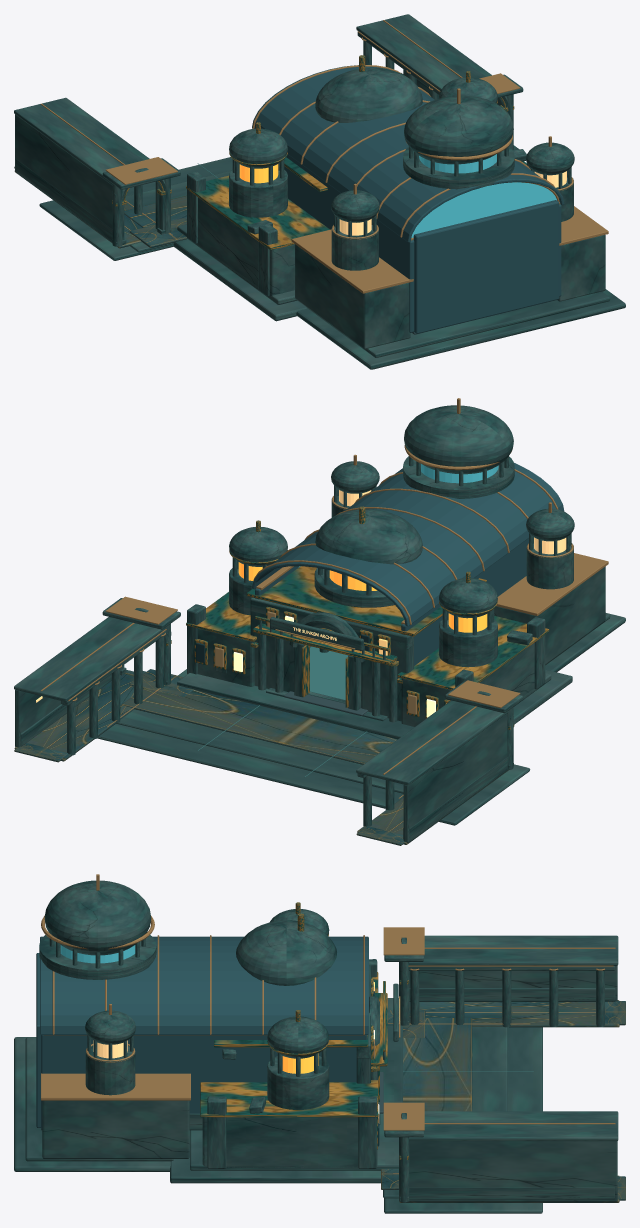
The model's file is atlantis-palace-complex.glb.
3 renders of one model, top to bottom at view 1: azimuth 30°, elevation 25°; view 2: azimuth 150°, elevation 25°; view 3: azimuth 270°, elevation 25°, orthographic. The views are drawn at different scales.
Parts seen in each view (by area): view 1: PalaceCoreRearSanctum, PalaceCoreNaveVault, PalaceCoreRearWing_L, PalaceCoreRearRotundaDome, MuseumWingRoof_L, MuseumWingOuterWall_L, PalaceCentralDome_mesh, MuseumWingRoof_R, PalaceCoreRearLowerPlinth, PalaceRightWing_mesh, PalaceCoreRearFanlightGlass, PalaceCoreSideWall_L (+25 smaller); view 2: PalaceCoreNaveVault, PalaceForecourtUpper, PalaceForecourtLower, PalaceCoreRearRotundaDome, MuseumWingRoof_L, MuseumWingRoof_R, MuseumWingOuterWall_L, PalaceForecourtMiddle, PalaceCentralDome_mesh, PalaceCoreRearWing_L, PalaceMainCornice_mesh, PalaceUpperPlinth_mesh (+36 smaller); view 3: PalaceCoreNaveVault, MuseumWingOuterWall_R, PalaceCoreSideWall_R, PalaceCoreRearWing_R, PalaceLeftWing_mesh, PalaceCoreRearRotundaDome, MuseumWingRoof_R, MuseumWingRoof_L, PalaceForecourtUpper, PalaceCentralDome_mesh, PalaceForecourtLower, PalaceLeftCornice_mesh (+34 smaller).
Boxes of the visible parts, left/top/right/bottom form: PalaceCoreRearSanctum: left=413, top=200, right=559, bottom=333; PalaceCoreNaveVault: left=252, top=65, right=564, bottom=242; PalaceCoreRearWing_L: left=295, top=244, right=410, bottom=349; PalaceCoreRearRotundaDome: left=404, top=95, right=513, bottom=164; MuseumWingRoof_L: left=14, top=97, right=149, bottom=185; MuseumWingOuterWall_L: left=15, top=114, right=112, bottom=242; PalaceCentralDome_mesh: left=315, top=67, right=422, bottom=122; MuseumWingRoof_R: left=356, top=14, right=491, bottom=90; PalaceCoreRearLowerPlinth: left=296, top=289, right=625, bottom=369; PalaceRightWing_mesh: left=198, top=197, right=294, bottom=295; PalaceCoreRearFanlightGlass: left=411, top=182, right=556, bottom=237; PalaceCoreSideWall_L: left=284, top=154, right=414, bottom=332; PalaceCoreNaveVault: left=252, top=463, right=564, bottom=626; PalaceForecourtUpper: left=122, top=688, right=397, bottom=764; PalaceForecourtLower: left=97, top=670, right=530, bottom=825; PalaceCoreRearRotundaDome: left=404, top=405, right=513, bottom=474; MuseumWingRoof_L: left=356, top=700, right=508, bottom=785; MuseumWingRoof_R: left=14, top=617, right=165, bottom=701; MuseumWingOuterWall_L: left=403, top=714, right=507, bottom=842; PalaceForecourtMiddle: left=116, top=671, right=403, bottom=793; PalaceCentralDome_mesh: left=315, top=509, right=422, bottom=576; PalaceCoreRearWing_L: left=494, top=566, right=605, bottom=664; PalaceMainCornice_mesh: left=246, top=566, right=486, bottom=636; PalaceUpperPlinth_mesh: left=177, top=673, right=551, bottom=739; PalaceCoreNaveVault: left=40, top=936, right=368, bottom=1034; MuseumWingOuterWall_R: left=409, top=1141, right=617, bottom=1201; PalaceCoreSideWall_R: left=41, top=1035, right=367, bottom=1129; PalaceCoreRearWing_R: left=42, top=1100, right=189, bottom=1158; PalaceLeftWing_mesh: left=202, top=1117, right=357, bottom=1167; PalaceCoreRearRotundaDome: left=44, top=880, right=151, bottom=955; MuseumWingRoof_R: left=409, top=1111, right=618, bottom=1141; MuseumWingRoof_L: left=409, top=935, right=618, bottom=965; PalaceForecourtUpper: left=403, top=1018, right=472, bottom=1111; PalaceCentralDome_mesh: left=236, top=920, right=336, bottom=985; PalaceForecourtLower: left=384, top=998, right=542, bottom=1213; PalaceLeftCornice_mesh: left=200, top=1080, right=378, bottom=1117.
Size of the model in its own units: 28 by 14.25 by 33.91.
27 materials, 16 textured.
